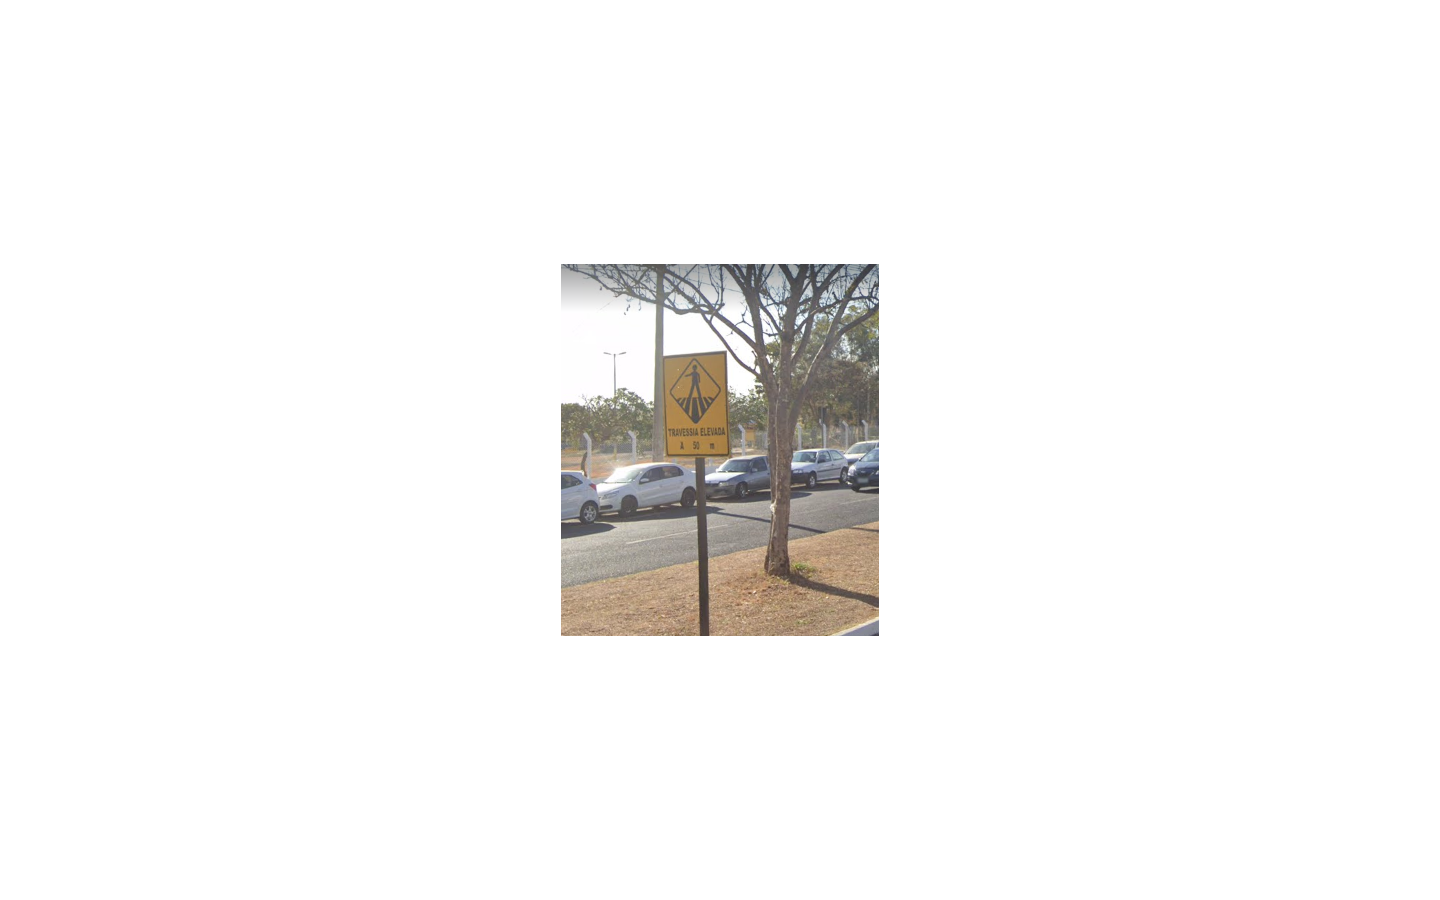t50m: (661, 351, 729, 457)
